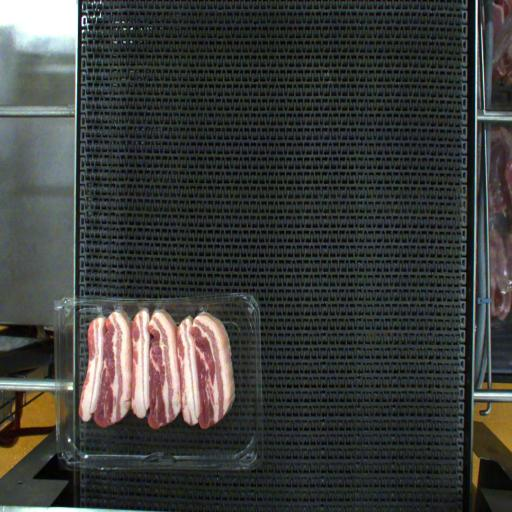packaging-error: (70, 282, 230, 329)
